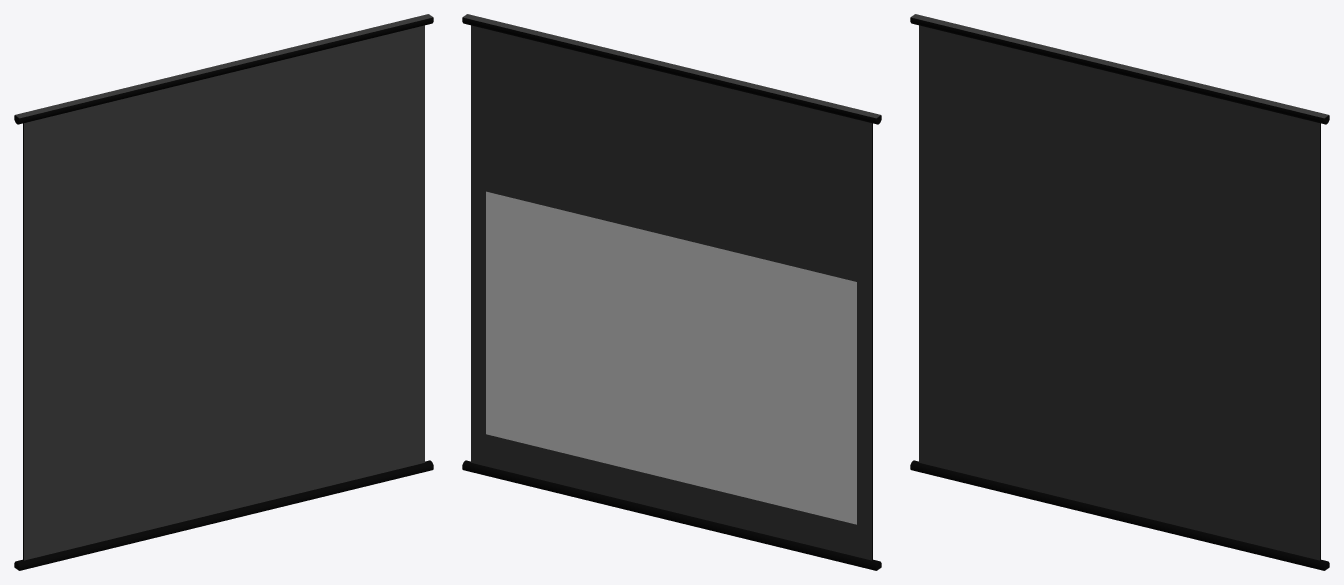
File: screen 1.fbx
The picture shows the model from 3 angles, left to right: view 1: azimuth 30°, elevation 25°; view 2: azimuth 150°, elevation 25°; view 3: azimuth 330°, elevation 25°; orthographic projection.
Visible parts, largest first — view 1: screen 1; view 2: screen 1; view 3: screen 1.
Part boxes in pixels (box(x1,y1,x2,y2)): screen 1: box(14, 14, 433, 570); screen 1: box(462, 14, 881, 570); screen 1: box(910, 14, 1329, 570).
Size of the model in its own units: 0.0774 by 3.36 by 3.5.
